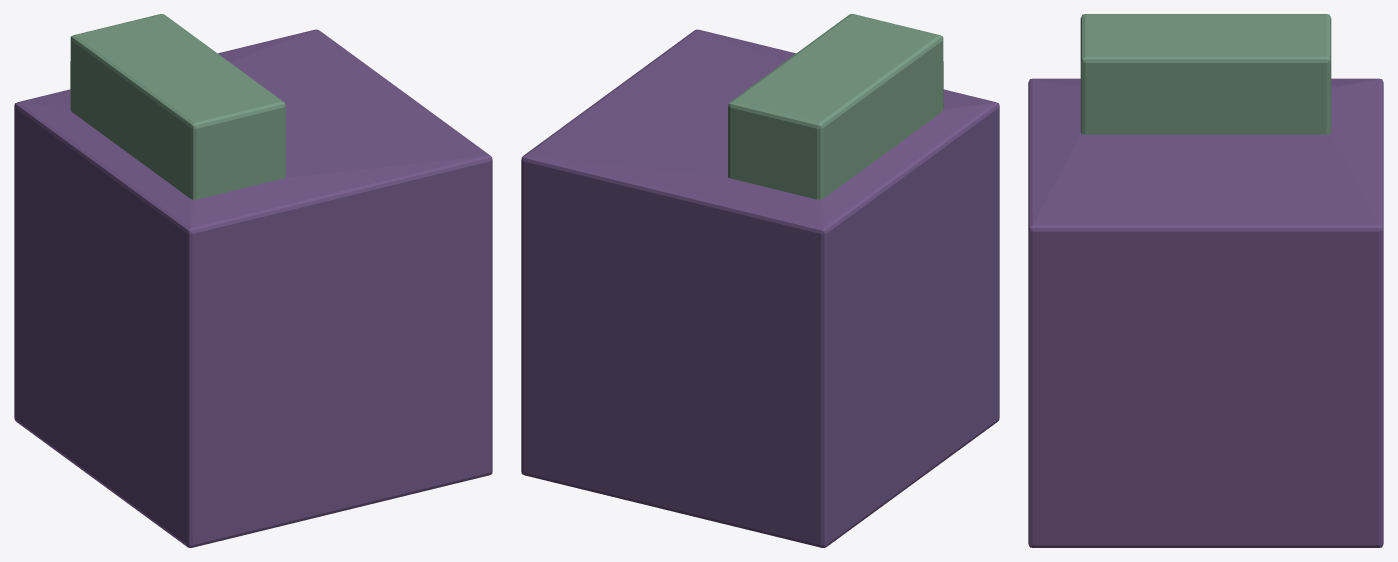
File: Lineshiftx_cube_cap_preprocessed_convex.obj
3 renders of one model, left to right at view 1: azimuth 30°, elevation 25°; view 2: azimuth 150°, elevation 25°; view 3: azimuth 270°, elevation 25°, orthographic.
Bounding box in the file's own units: 0.0811 × 0.1011 × 0.0811.
